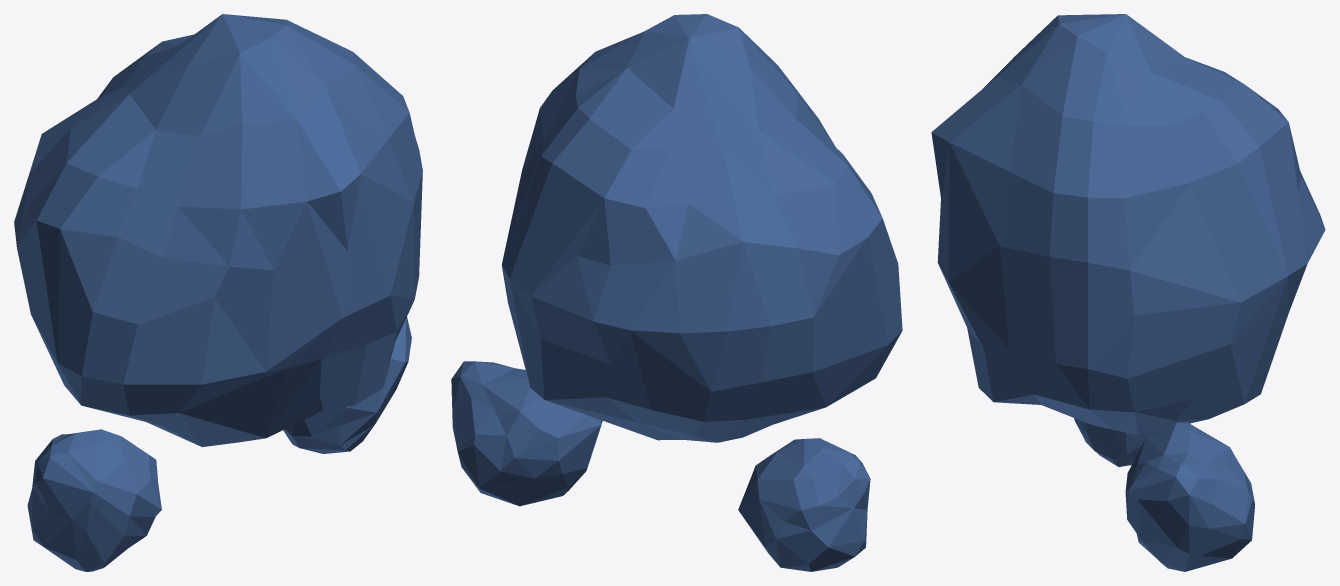
File: tree-winter-leaves-3-047.glb
The picture shows the model from 3 angles, left to right: view 1: azimuth 30°, elevation 25°; view 2: azimuth 150°, elevation 25°; view 3: azimuth 270°, elevation 25°; orthographic projection. The views are drawn at different scales.
Parts seen in each view (by area): view 1: TREE 3.005_199; view 2: TREE 3.005_199; view 3: TREE 3.005_199.
Boxes of the visible parts, x1,y1,x2,y2 form: TREE 3.005_199: (14, 14, 422, 571); TREE 3.005_199: (451, 14, 902, 571); TREE 3.005_199: (931, 14, 1325, 571).
Bounding box in the file's own units: 1.04 × 1.29 × 0.8969.
